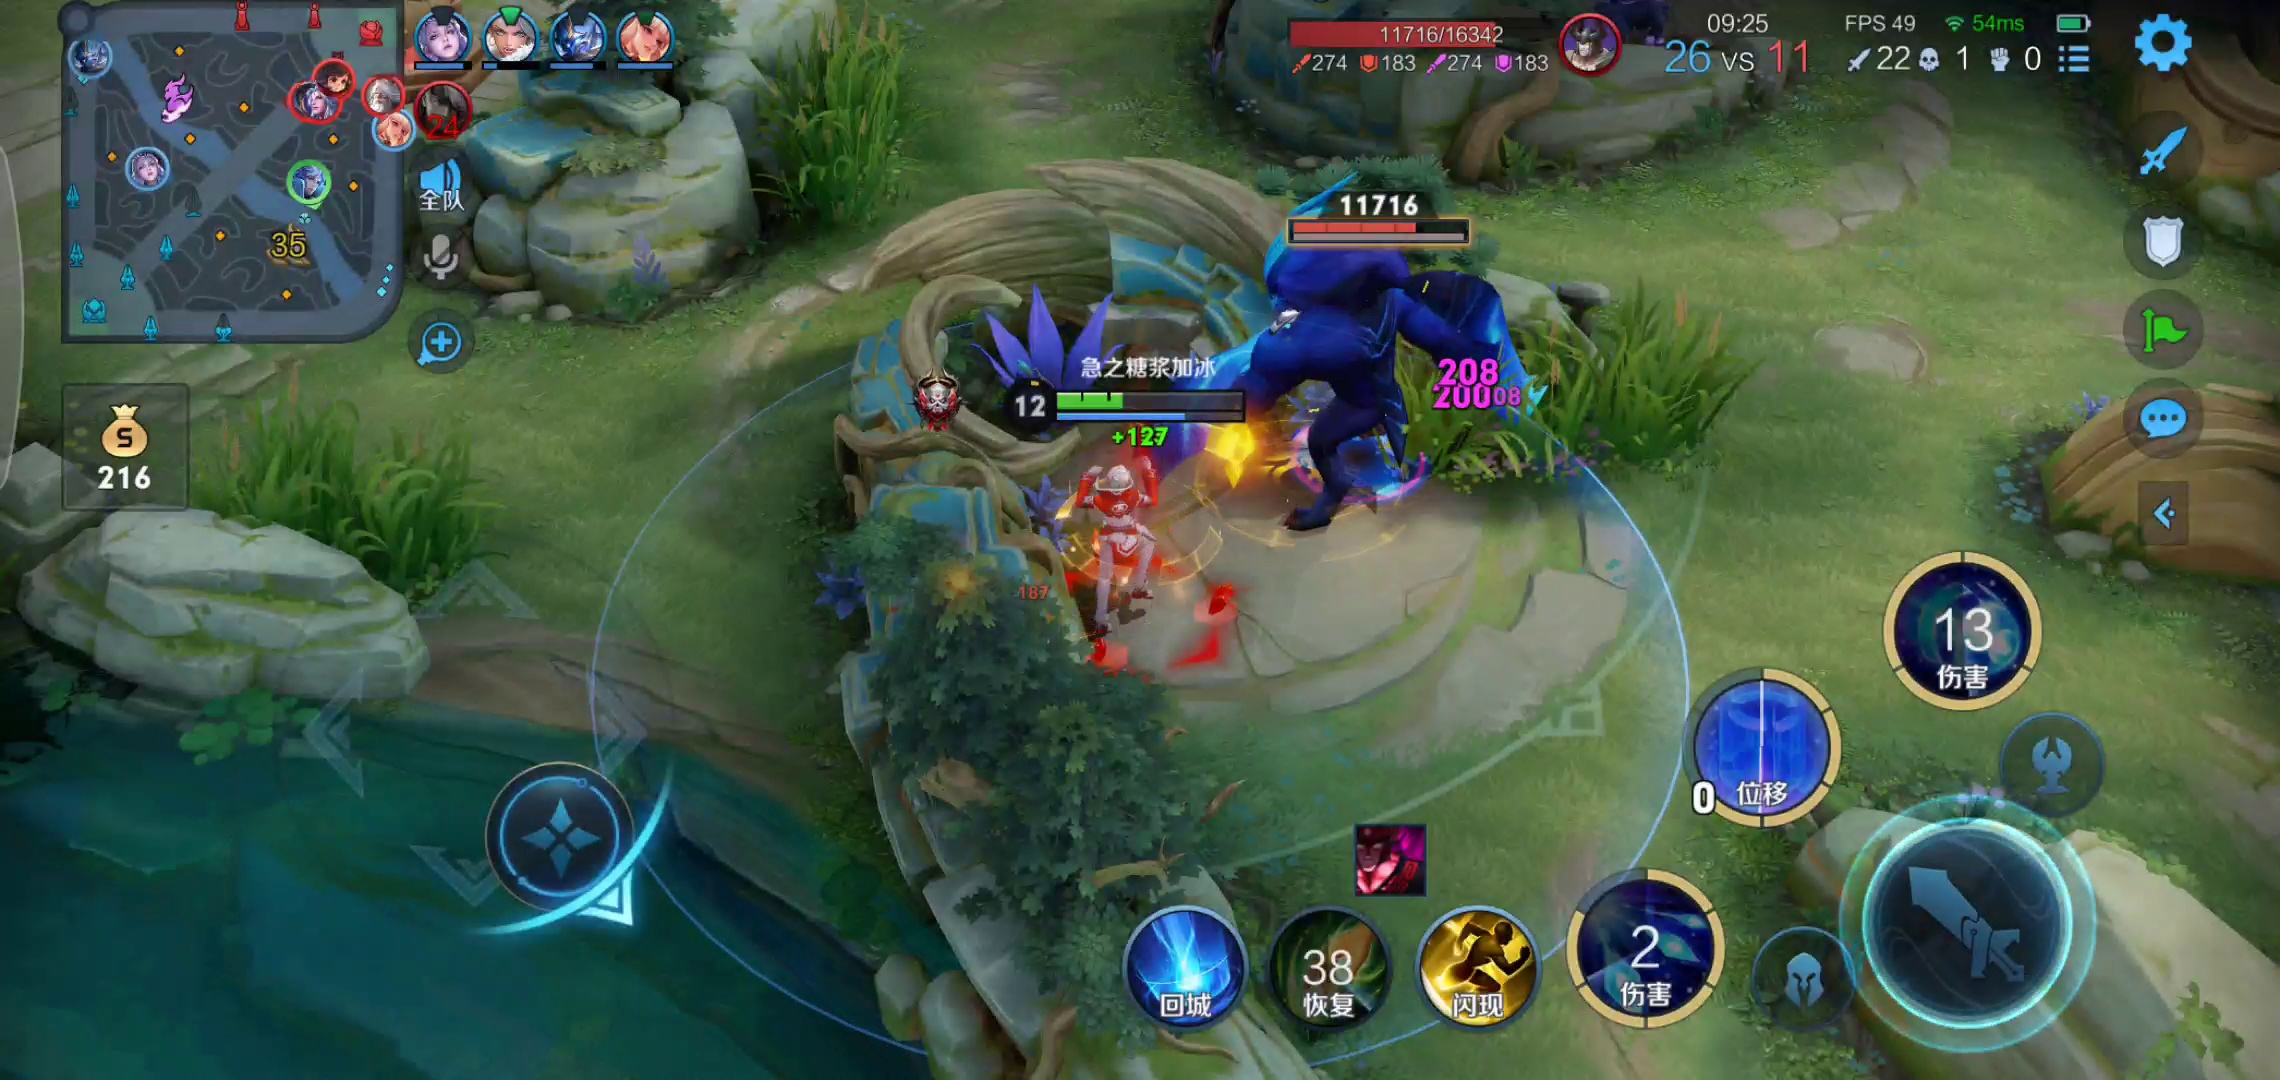buff: (1219, 233, 1447, 515)
grass: (205, 416, 497, 599), (1399, 343, 1742, 456), (755, 36, 920, 219)
hero: (1050, 472, 1200, 648)
